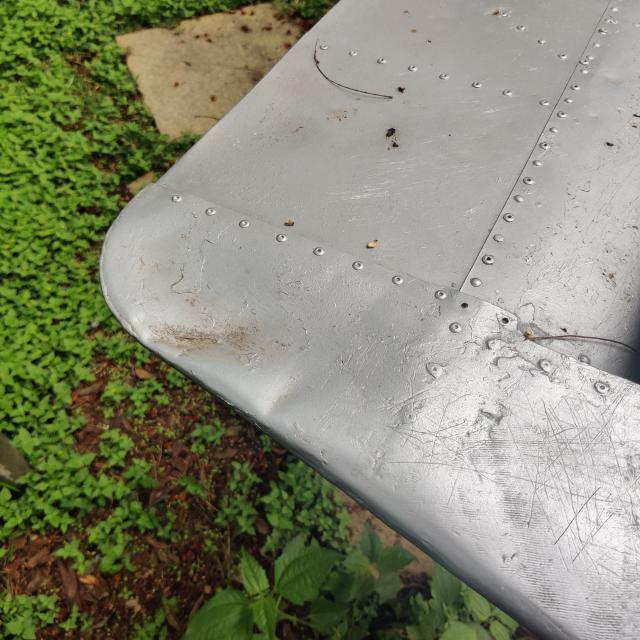dent: (235, 346, 336, 451)
scratch: (501, 389, 640, 568)
